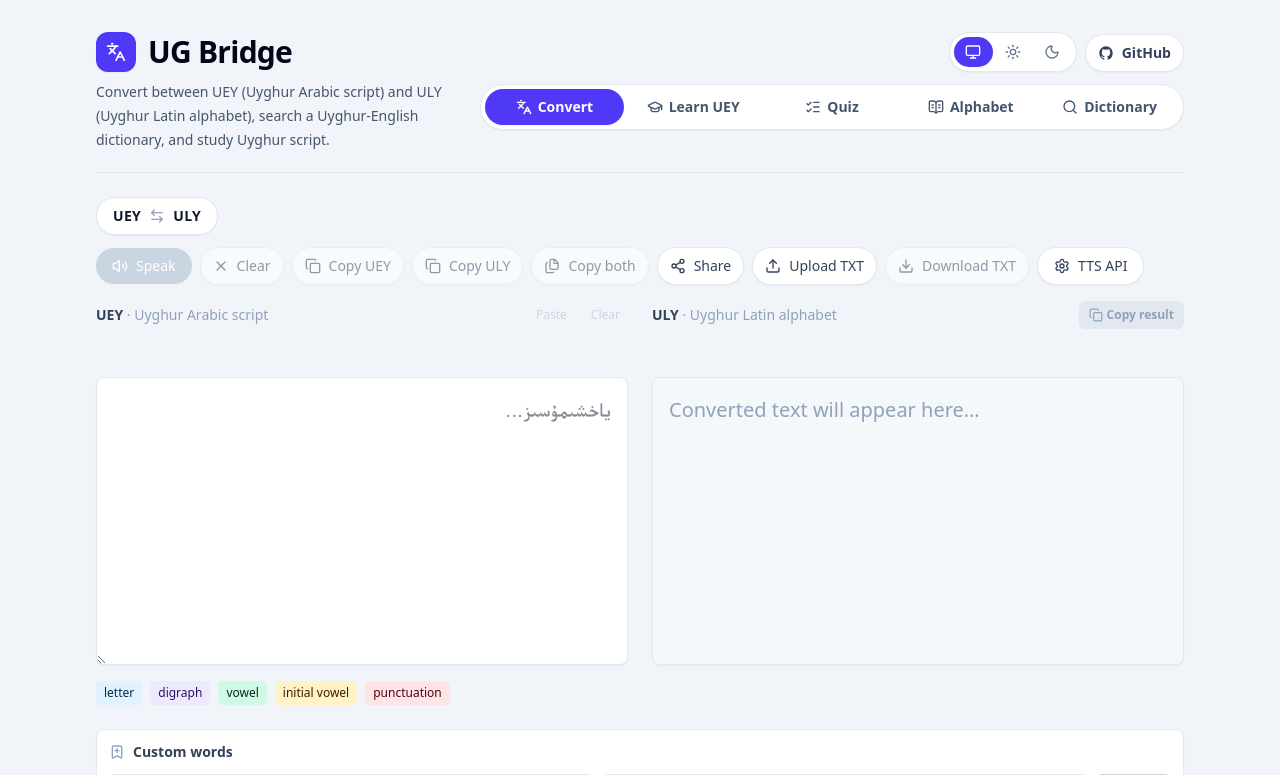
App conversion workflow › detects strong ULY input and converts it to UEY
The image size is (1280, 775).
Type "yaxshi" into the text box labelled "UEY · Uyghur Arabic script". click: (362, 521)
box: [96,377,628,665]
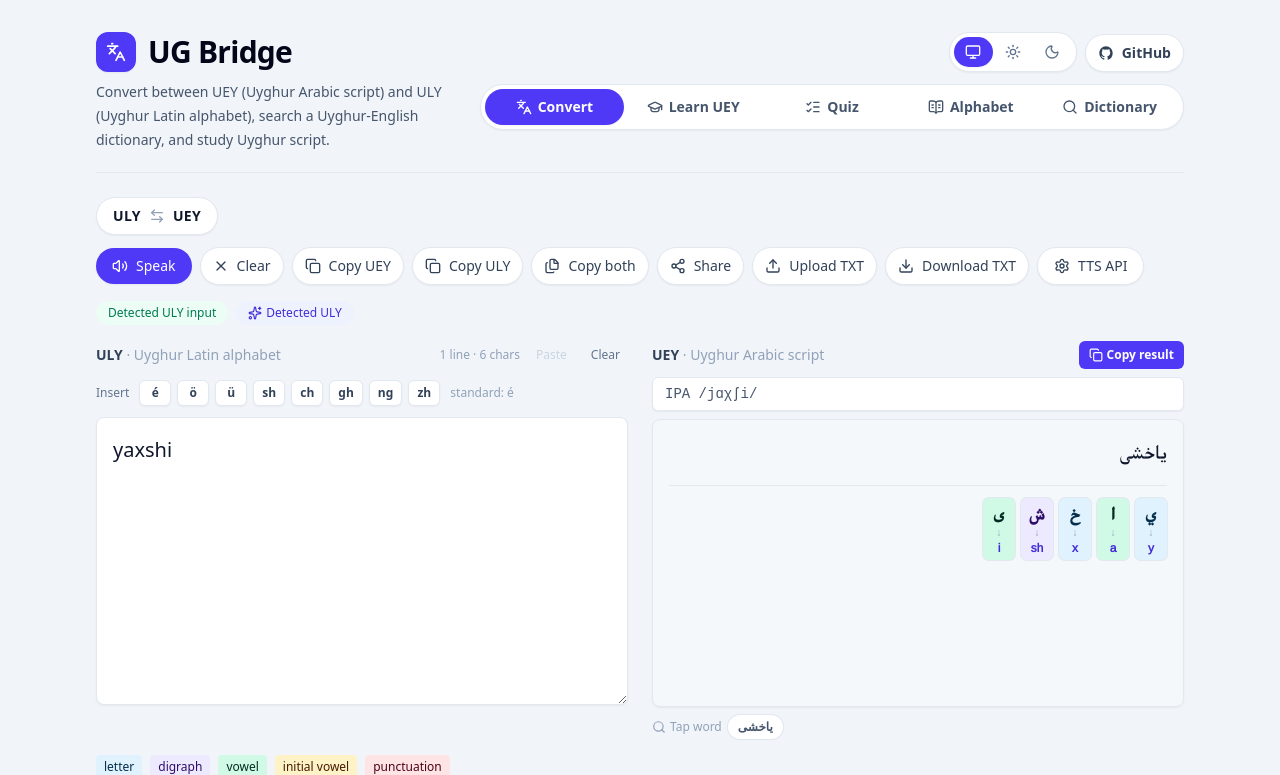
expect the text "Detected ULY input" is shown: met, box [96,301,228,325]
expect the text "ياخشى" is shown: met, box [1120,441,1167,463]
expect the button with aria-label "Currently ULY to UEY" is shown: met, box [96,197,218,235]
